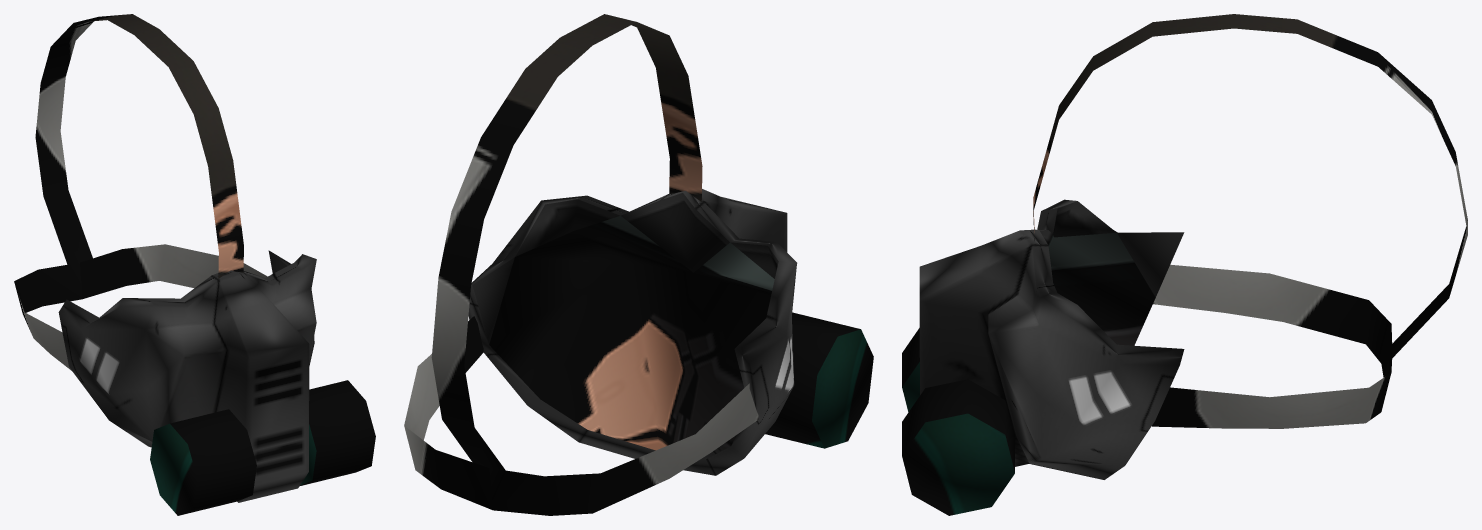
File: mod_gear_face02.fbx
3 views of the same model, side by side, from view 1: azimuth 30°, elevation 25°; view 2: azimuth 150°, elevation 25°; view 3: azimuth 270°, elevation 25° (orthographic). The views are drawn at different scales.
Visible parts, largest first — view 1: mod_gear_face02; view 2: mod_gear_face02; view 3: mod_gear_face02.
Boxes of the visible parts, x1,y1,x2,y2 form: mod_gear_face02: [14, 14, 375, 515]; mod_gear_face02: [404, 14, 873, 515]; mod_gear_face02: [902, 14, 1467, 515].
Size of the model in its own units: 15.63 by 24.69 by 28.54.
